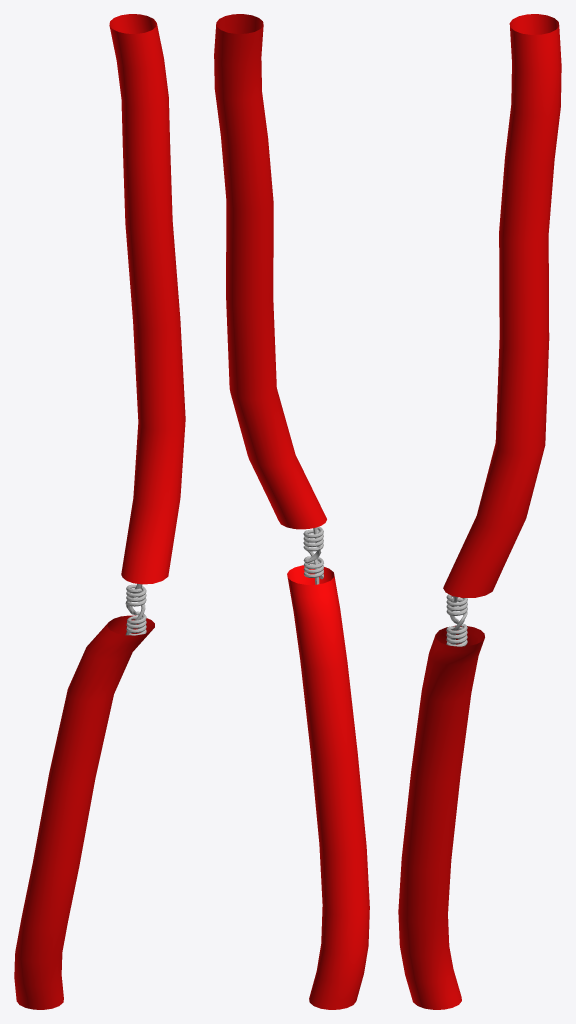
Rendered from wire_soldered_1.gltf.
3 renders of one model, left to right at view 1: azimuth 30°, elevation 25°; view 2: azimuth 150°, elevation 25°; view 3: azimuth 330°, elevation 25°, orthographic. The views are drawn at different scales.
Parts seen in each view (by area): view 1: wire_broken_1c.001, pHelix6, pHelix5; view 2: wire_broken_1c.001, pHelix6, pHelix5; view 3: wire_broken_1c.001, pHelix5, pHelix6.
Part boxes in pixels (x1=…): wire_broken_1c.001: x1=14, y1=14, x2=185, y2=1009; pHelix6: x1=125, y1=584, x2=146, y2=635; pHelix5: x1=125, y1=583, x2=146, y2=635; wire_broken_1c.001: x1=214, y1=14, x2=369, y2=1009; pHelix6: x1=303, y1=526, x2=323, y2=584; pHelix5: x1=303, y1=527, x2=323, y2=579; wire_broken_1c.001: x1=398, y1=14, x2=561, y2=1009; pHelix5: x1=446, y1=596, x2=467, y2=646; pHelix6: x1=446, y1=594, x2=467, y2=644.
Bounding box in the file's own units: 0.2558 × 1.56 × 0.1825.
